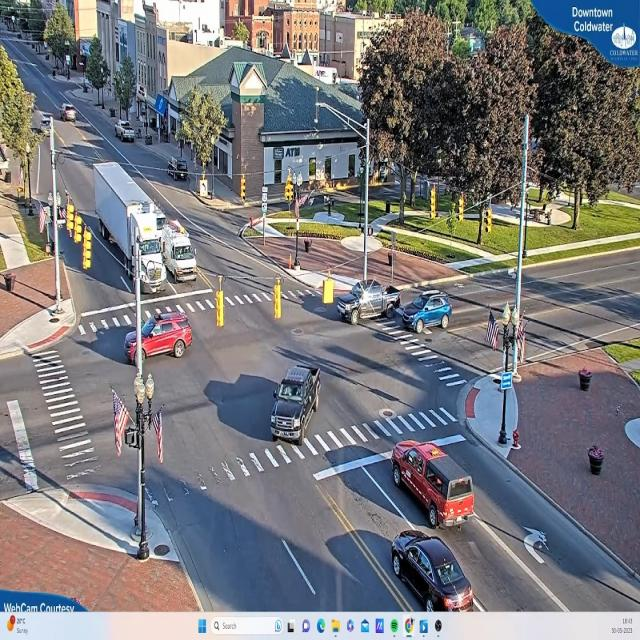car: (392, 438, 477, 530), (390, 530, 481, 612), (269, 366, 321, 444), (125, 314, 191, 364), (338, 281, 400, 324), (398, 292, 453, 334), (117, 122, 137, 144)
truck: (94, 162, 167, 291), (162, 225, 198, 282)
